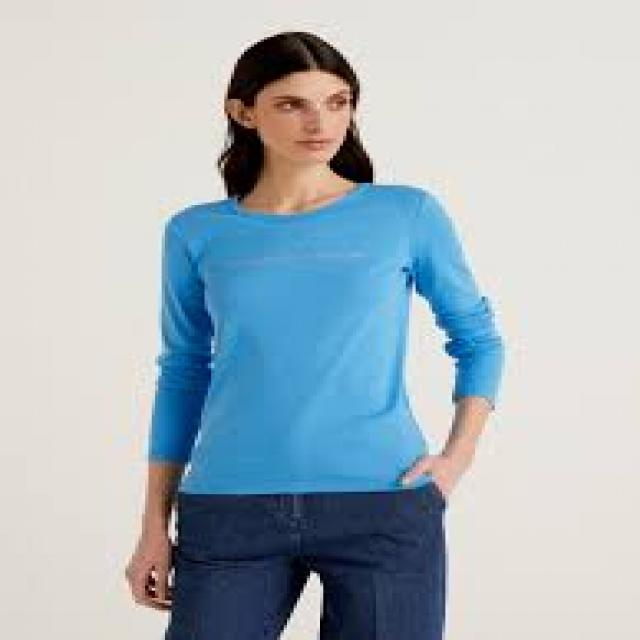plain: (155, 192, 508, 493)
